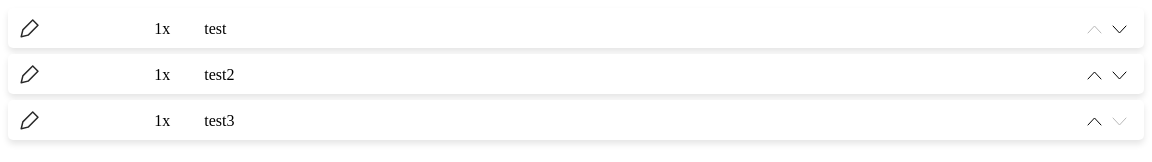
ProductChange › should render editable product
The image size is (1152, 162).
What coordinates should you click on to do the following:
click the 1st icon with test id "Pencil1"
I would click on:
 (30, 28)
Its box is [20,18,39,38].
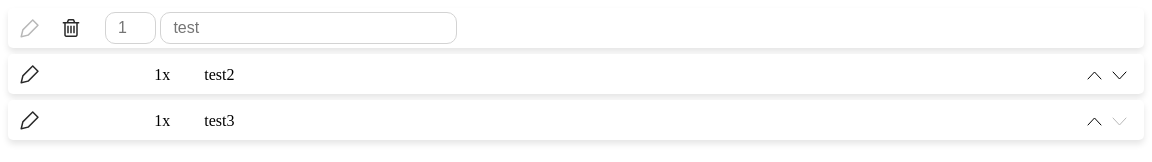
Expected: the element with test id "product--editable" is shown, [8,8,1144,48]
